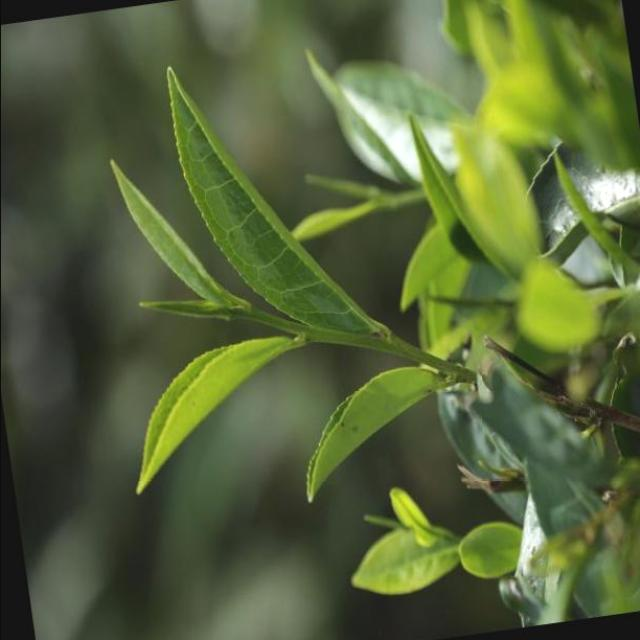Stem: (246, 306, 265, 323)
